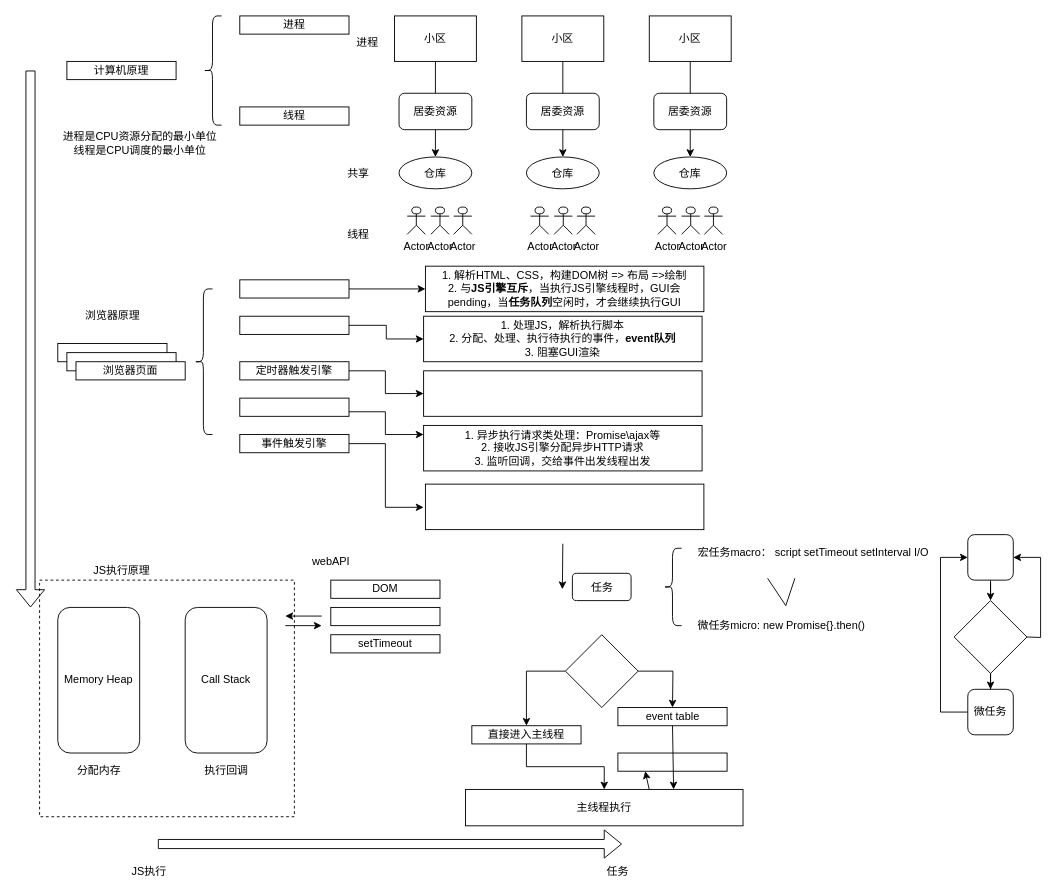
Some shapes in this 1064 by 896 pixel diagram are drawn without their labels. Here are the shapes that lost their labels. From the top down, the box of each, then its label:
(239, 279, 349, 298): GUI渲染引擎
(239, 315, 349, 334): JS引擎线程
(239, 397, 349, 416): 异步HTTP请求线程
(423, 370, 702, 416): 1. 异步定时器处理与执行 - setTimeout&setInterval 2. 接收JS引擎分配的定时器任务，并计数 3. 处理完成后交于事件触发线程触发
(425, 483, 704, 530): 1. 接收来源： 定时器、异步、用户操作 2. 将回调过来的事件依次接入到 任务队列 的队尾，还给JS引擎
(967, 534, 1013, 580): 宏任务
(330, 607, 440, 626): AJAX
(953, 600, 1027, 673): 是否有可执行的微任务
(564, 634, 638, 708): 同步 or 异步
(617, 752, 727, 771): event queue
